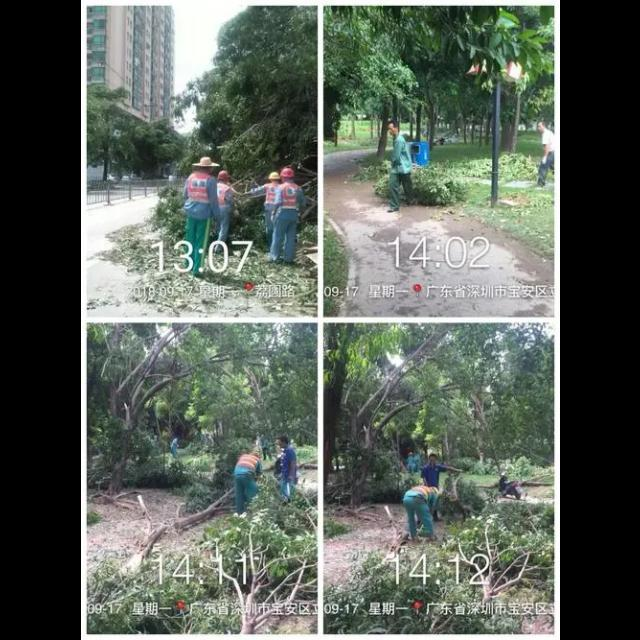fallen_tree: (360, 508, 556, 632), (102, 468, 236, 598), (150, 169, 316, 261), (214, 512, 316, 632), (373, 157, 467, 210)
